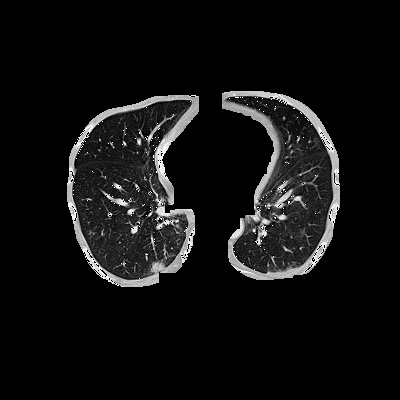PN: (150, 261, 162, 273)
